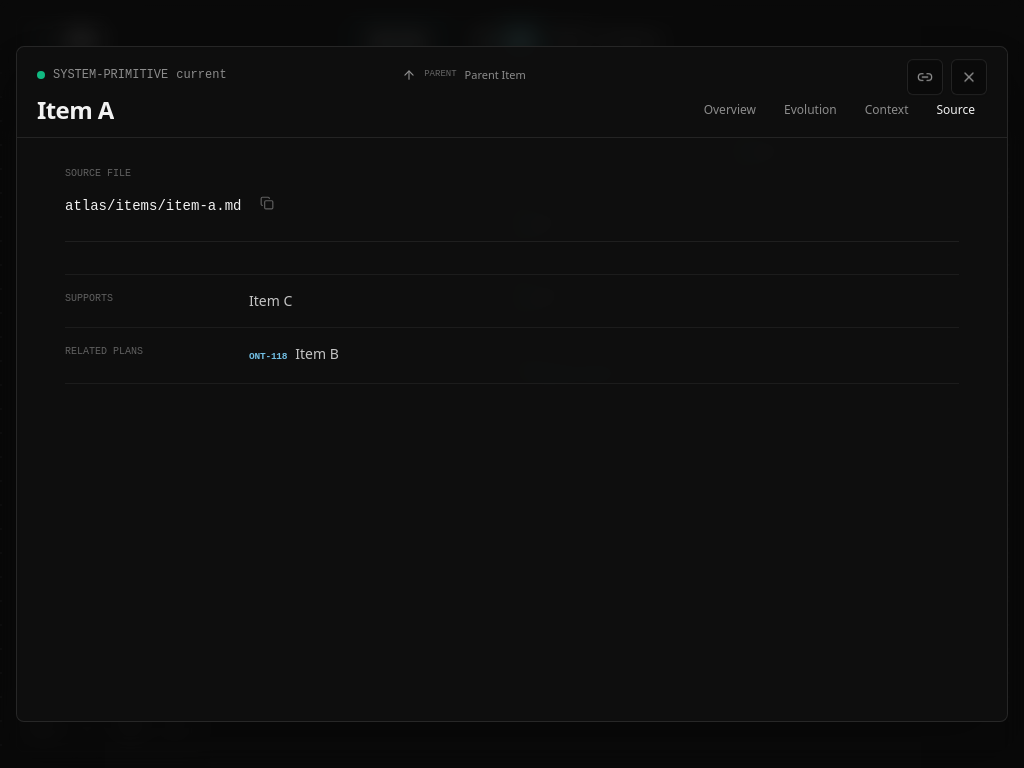
Test: PlanWorkstreamExplorer › renders resolved source relationships as human-readable navigation
Expected: the button "ONT-118 Item B" is shown, x1=249 y1=344 x2=339 y2=367
Step 1. Click the button "Item C" → click(271, 301), box x1=249 y1=291 x2=292 y2=311
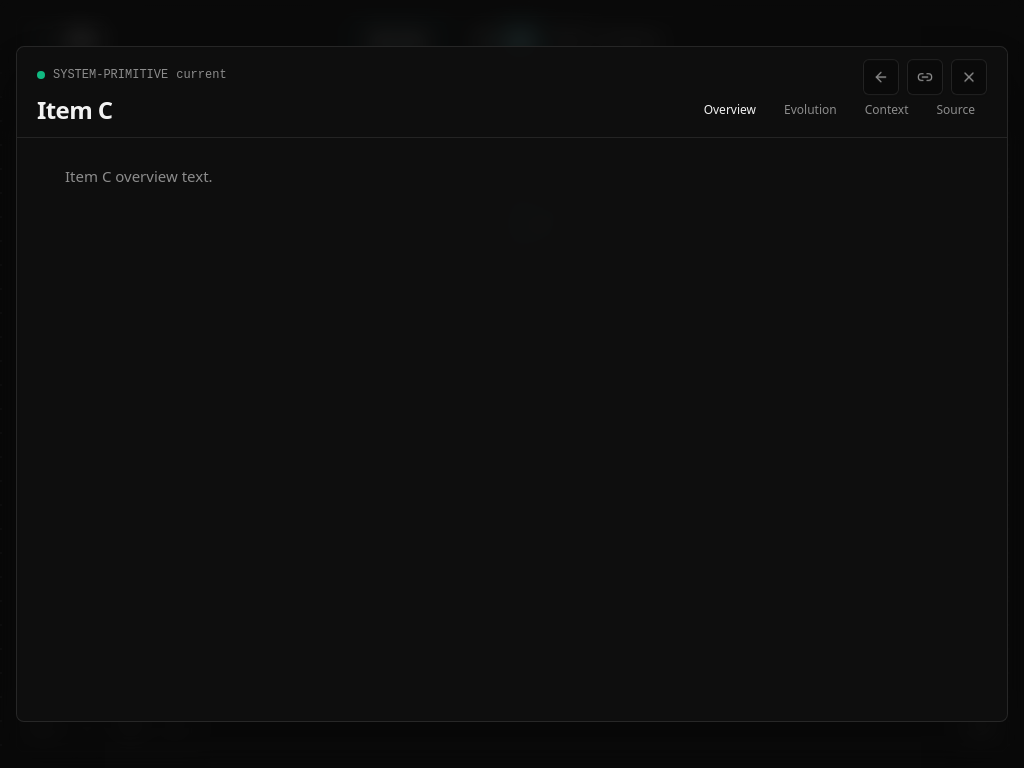
Result: the heading "Item C" is shown at x1=37 y1=93 x2=112 y2=126
